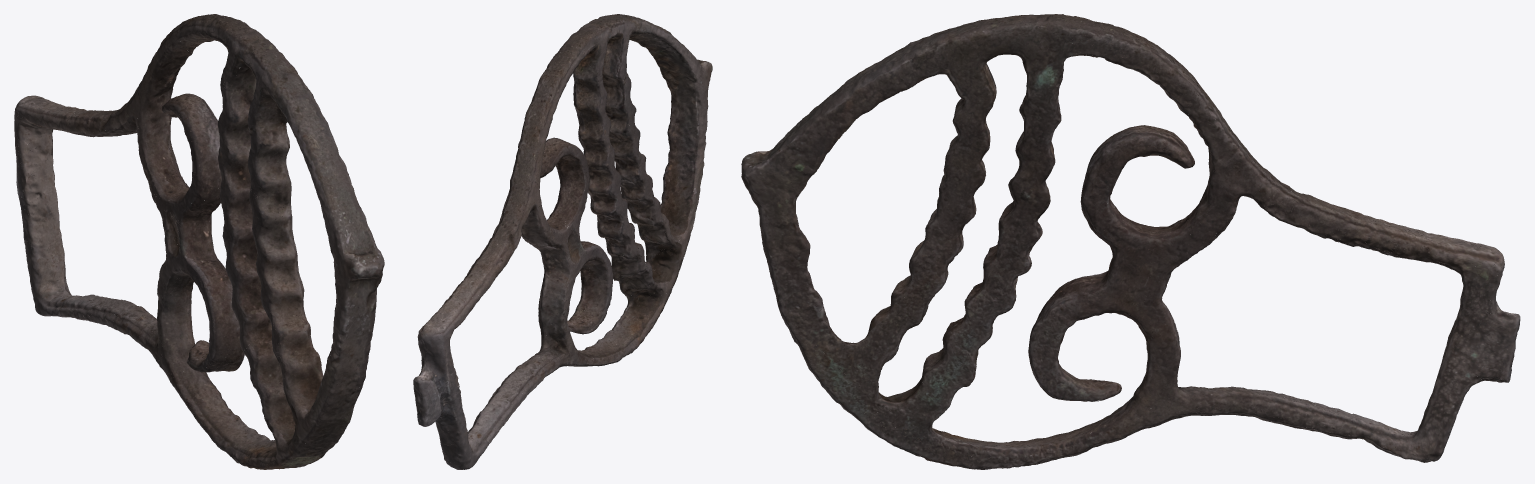
The model's file is item1_low.glb.
The picture shows the model from 3 angles, left to right: view 1: azimuth 30°, elevation 25°; view 2: azimuth 150°, elevation 25°; view 3: azimuth 270°, elevation 25°; orthographic projection. The views are drawn at different scales.
Visible parts, largest first — view 1: Model; view 2: Model; view 3: Model.
Part boxes in pixels (bbox=[...]): Model: bbox=[14, 14, 384, 469]; Model: bbox=[413, 14, 712, 469]; Model: bbox=[741, 14, 1520, 469].
Size of the model in its own units: 0.1769 by 1.46 by 2.26.
1 material, 1 textured.
